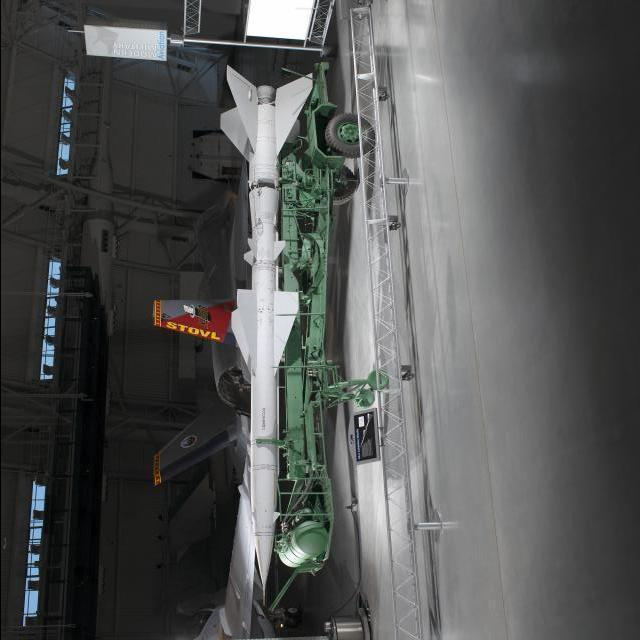missile: (212, 68, 304, 587)
